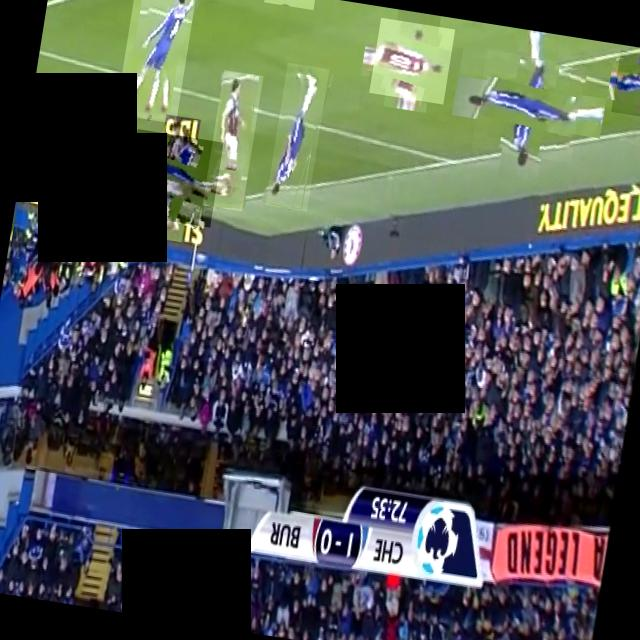referee: (6, 156, 30, 260)
soccer-player: (471, 49, 585, 162), (114, 0, 197, 123), (124, 128, 222, 227), (264, 61, 328, 210), (202, 68, 262, 210), (368, 17, 454, 104), (610, 49, 640, 120), (263, 0, 315, 9)
